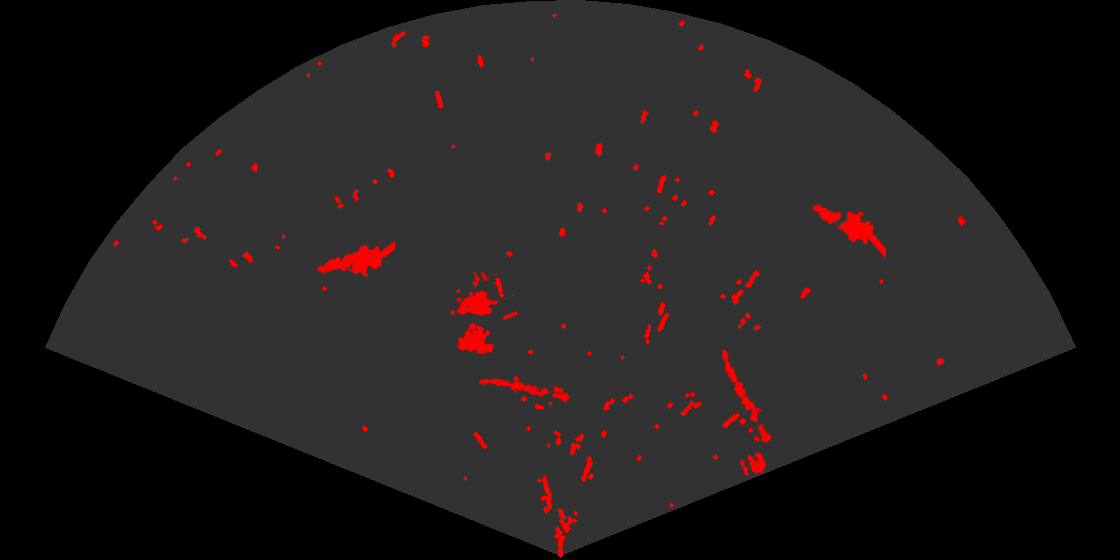ball: (738, 450, 768, 478)
cage: (449, 272, 517, 356)
chain: (720, 348, 773, 445), (477, 377, 572, 404)
frogman: (811, 203, 886, 260), (315, 240, 395, 279)
